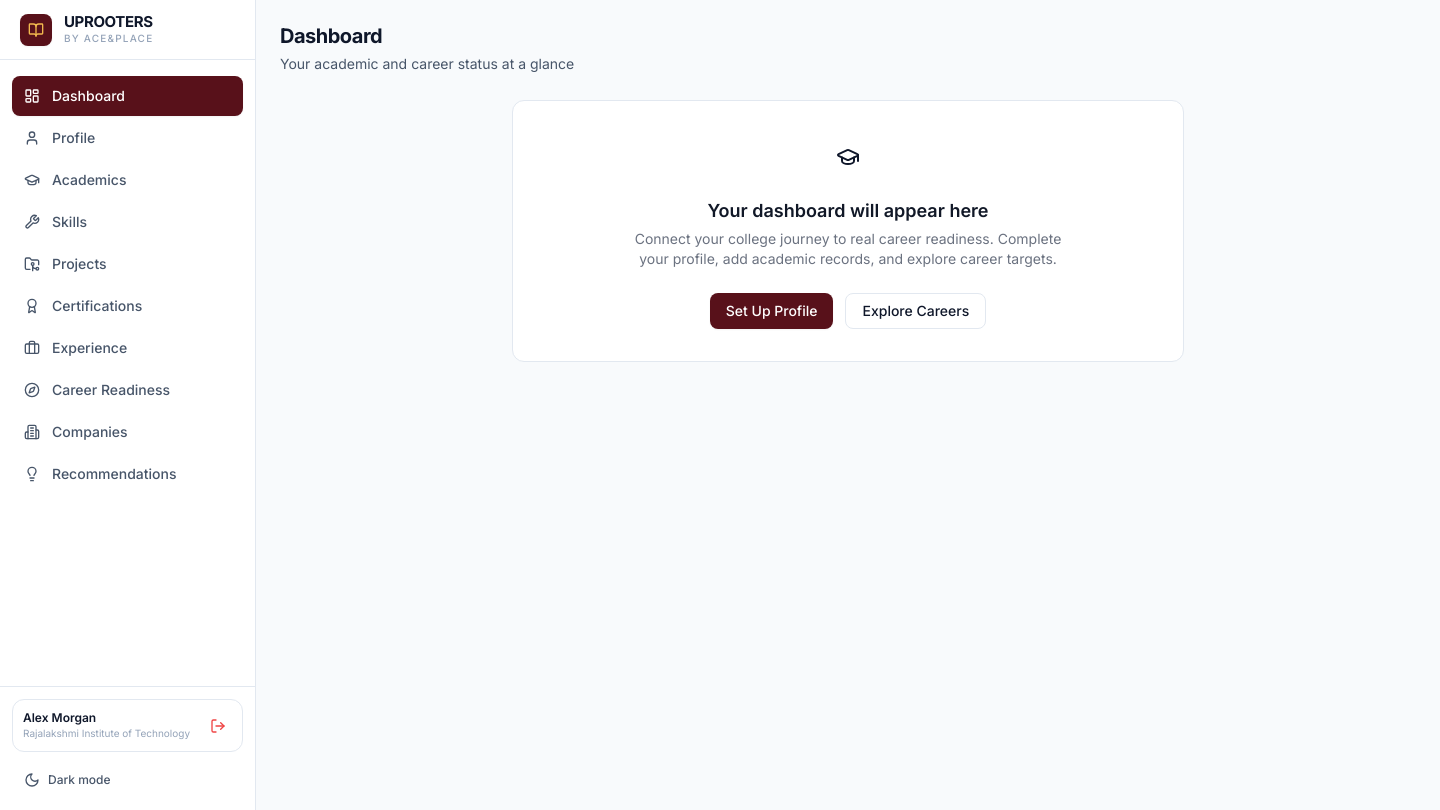
it: Milestone 02 — Application Shell & Visual Foundation › Student shell (/app/*) › navigates to Profile via student sidebar
Step 1. Click the link "Profile" → (60, 138), box [24,129,95,146]
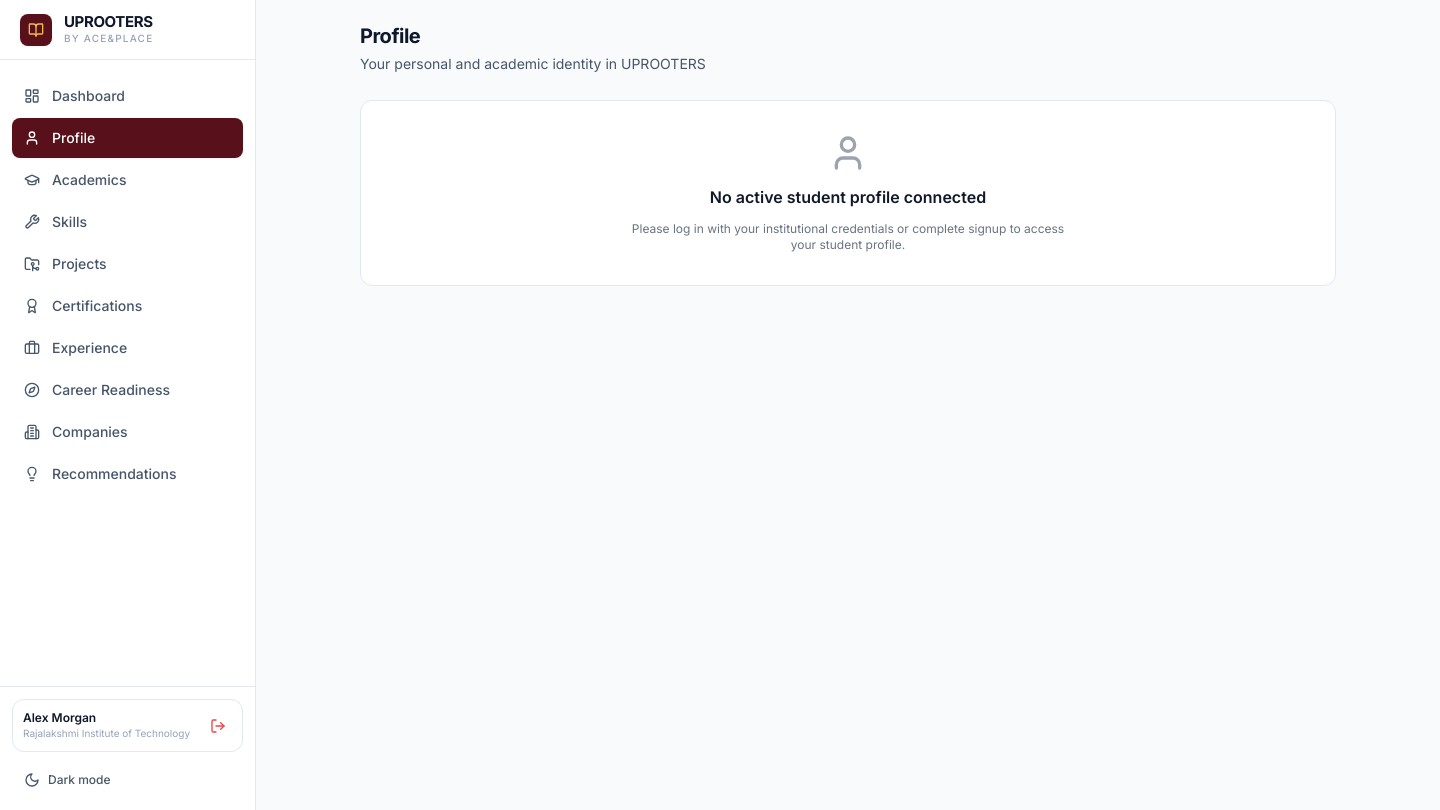
Expected: the heading "Profile" is shown, [360,24,420,48]
